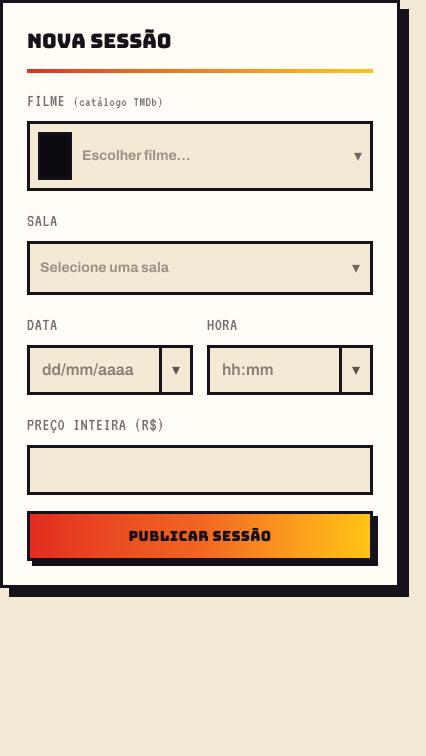
FormSessao › lists the blocked windows of the chosen room, buffer included
Click the button "Selecione uma sala ▾": point(104, 268) 27,241 -> 373,295
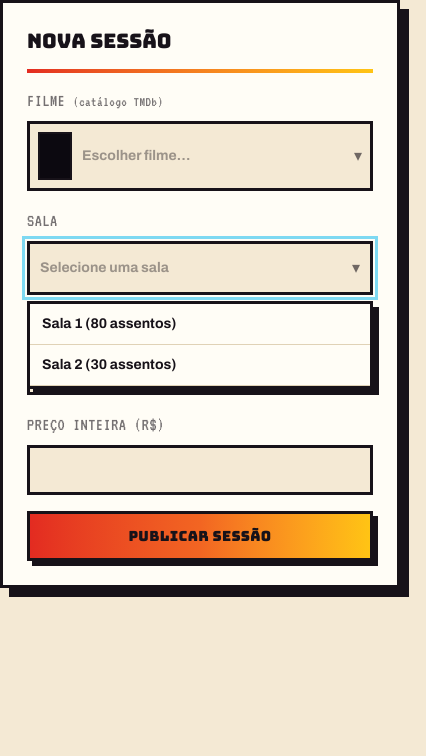
Click the option "Sala 1 (80 assentos)": point(109, 324) 30,304 -> 370,345
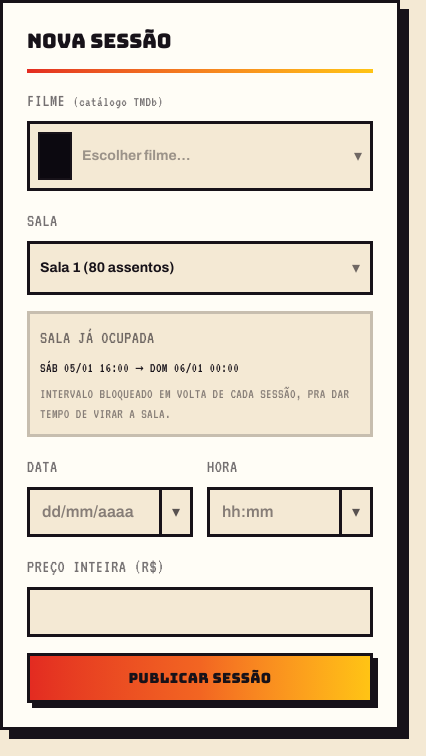
Expected: the list item is shown, 40,361 -> 239,375
